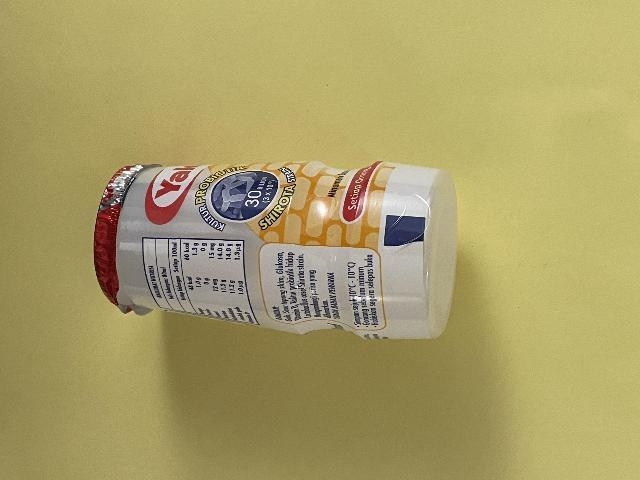plasticbottle: (92, 158, 458, 342)
